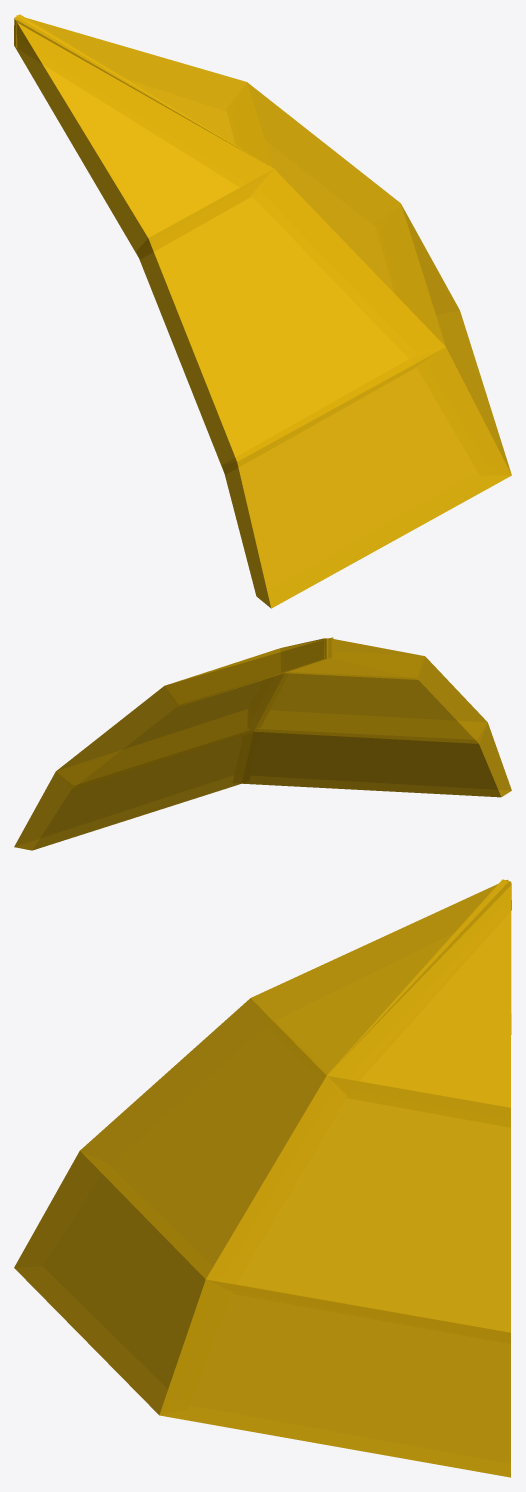
Rendered from SM_Bld_Roof_Dome_Corner_01_Collision.fbx.
The picture shows the model from 3 angles, top to bottom: view 1: azimuth 30°, elevation 25°; view 2: azimuth 150°, elevation 25°; view 3: azimuth 270°, elevation 25°; orthographic projection. The views are drawn at different scales.
Parts seen in each view (by area): view 1: SM_Bld_Roof_Dome_Corner_01_Collision; view 2: SM_Bld_Roof_Dome_Corner_01_Collision; view 3: SM_Bld_Roof_Dome_Corner_01_Collision.
Part boxes in pixels (<box>): SM_Bld_Roof_Dome_Corner_01_Collision: <box>14,14,511,608</box>; SM_Bld_Roof_Dome_Corner_01_Collision: <box>14,637,511,850</box>; SM_Bld_Roof_Dome_Corner_01_Collision: <box>14,879,511,1477</box>.
Bounding box in the file's own units: 262 × 225 × 262.
